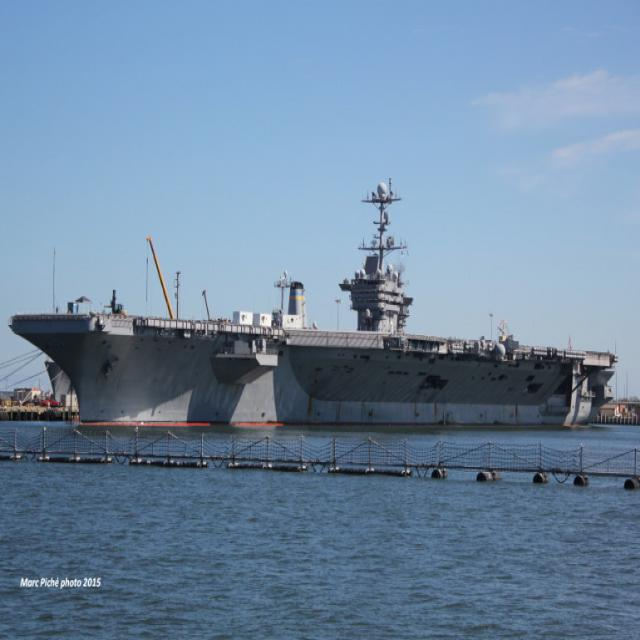Portanaves: (6, 177, 622, 433)
